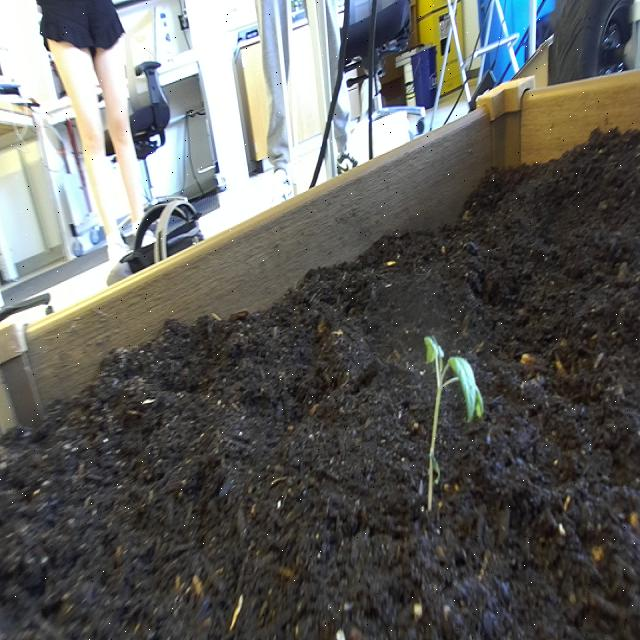Healthy: (422, 325, 486, 517)
